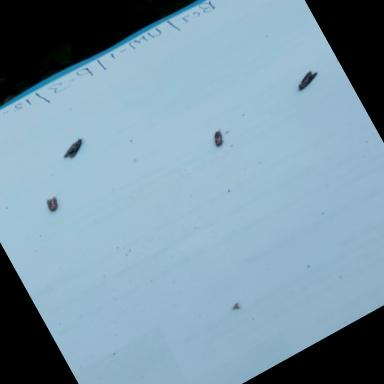pbw: (57, 134, 91, 164), (290, 66, 324, 95), (40, 190, 70, 216), (206, 125, 231, 150)
